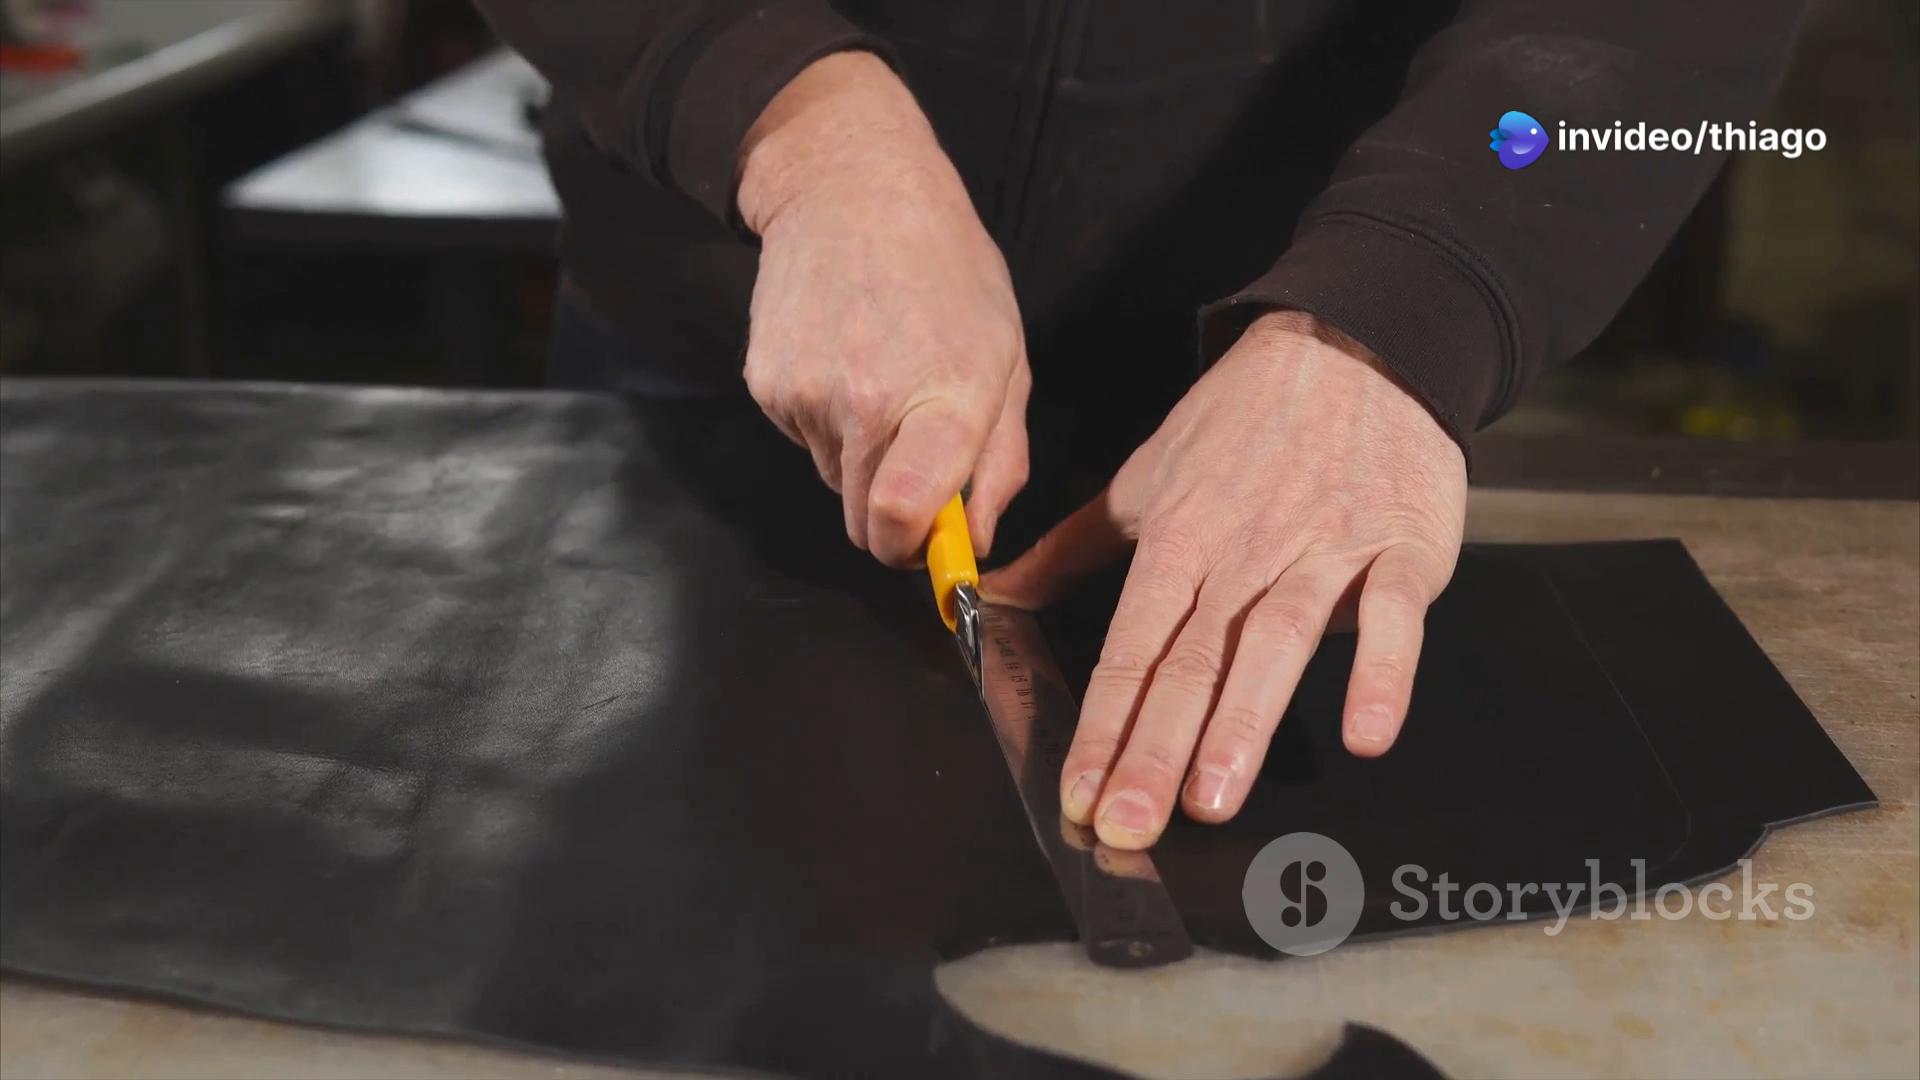cortante: (955, 583, 986, 705)
